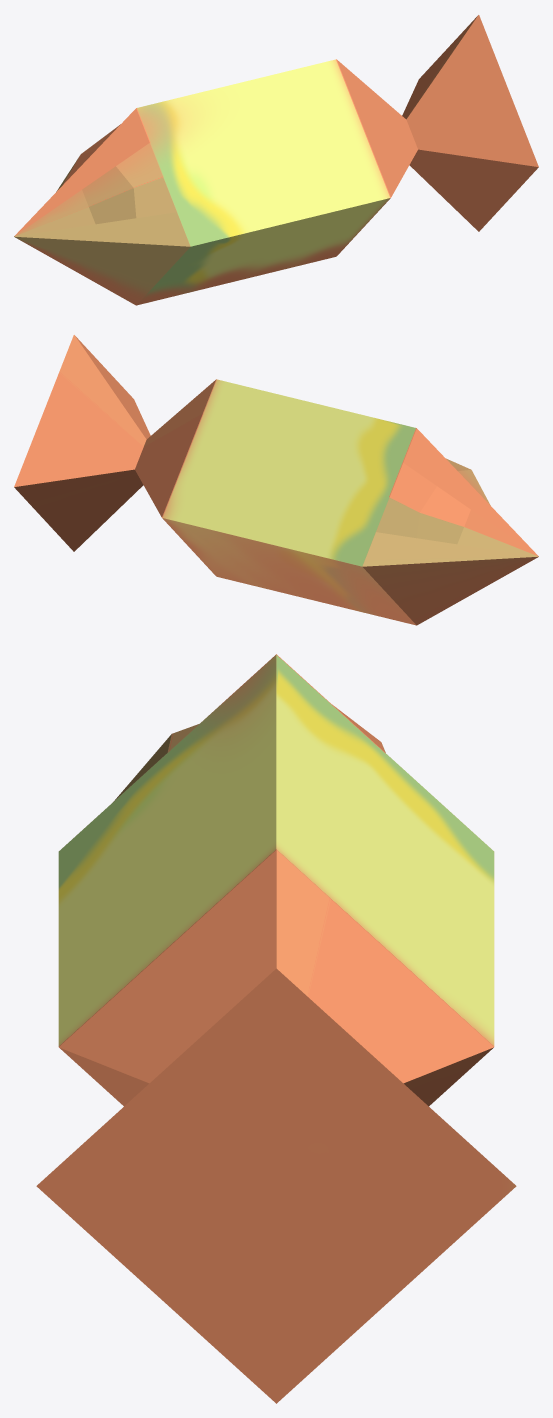
File: fish.obj
The picture shows the model from 3 angles, top to bottom: view 1: azimuth 30°, elevation 25°; view 2: azimuth 150°, elevation 25°; view 3: azimuth 270°, elevation 25°; orthographic projection. The views are drawn at different scales.
Visible parts, largest first — view 1: Cylinder; view 2: Cylinder; view 3: Cylinder.
Part boxes in pixels (x1,y1,x2,y2): Cylinder: [14, 15, 538, 305]; Cylinder: [14, 335, 538, 625]; Cylinder: [36, 654, 516, 1403].
Size of the model in its own units: 1.18 by 0.5293 by 0.5293.
